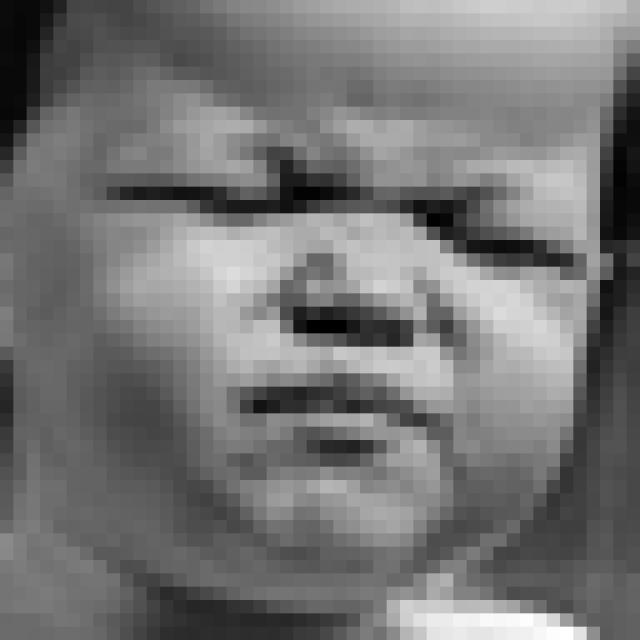disgust: (105, 130, 587, 505)
